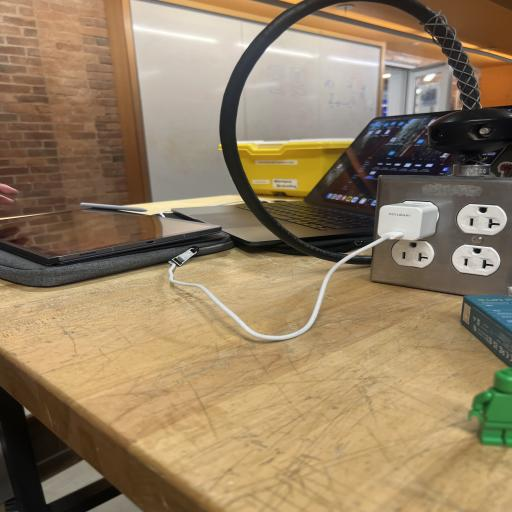green-lego-minifigure-detector: (468, 368, 512, 446)
